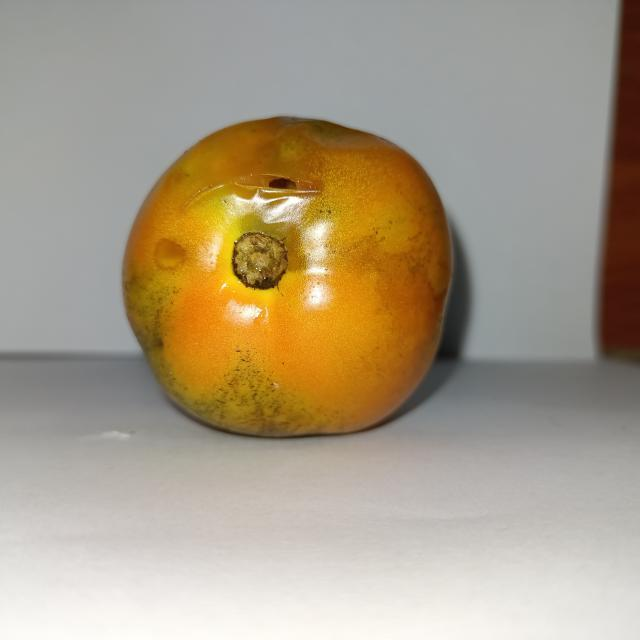Red: (120, 114, 454, 438)
